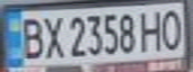2: (66, 11, 87, 58)
3: (84, 11, 106, 56)
5: (103, 10, 121, 55)
8: (118, 10, 139, 54)
B: (15, 14, 48, 61)
H: (136, 7, 166, 53)
O: (157, 6, 187, 52)
X: (39, 12, 66, 60)
